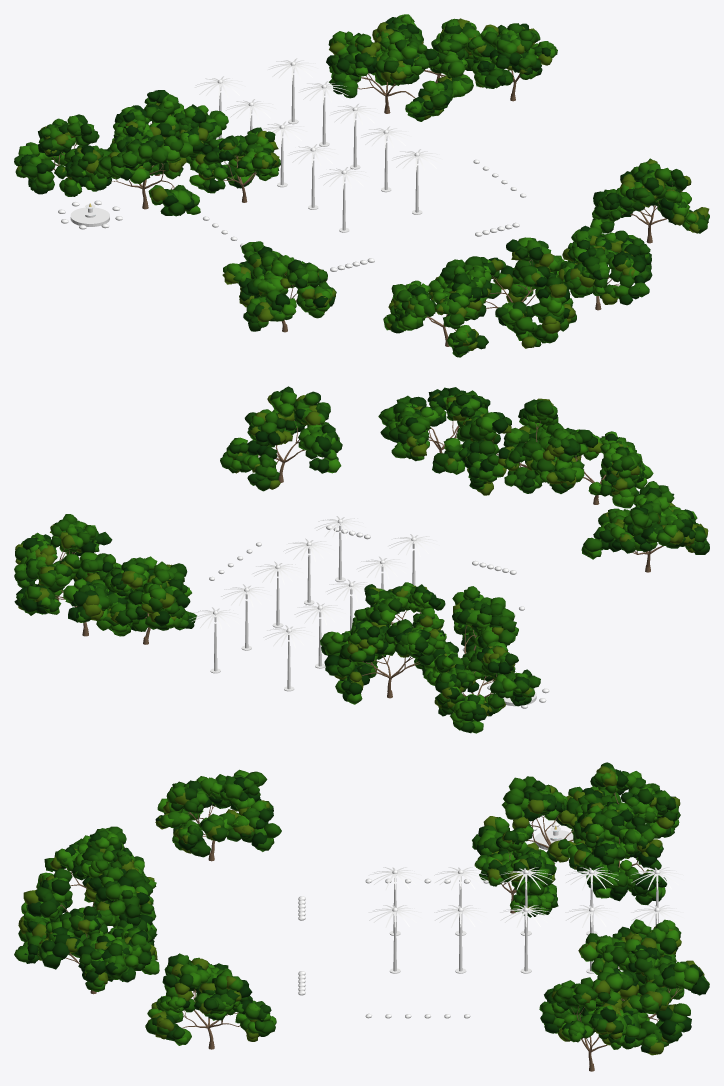
File: campus_vegetation.glb
3 views of the same model, one above another, from view 1: azimuth 30°, elevation 25°; view 2: azimuth 150°, elevation 25°; view 3: azimuth 270°, elevation 25° (orthographic). The views are drawn at different scales.
Visible parts, largest first — view 1: Oak_Tree_9_Leaves, Oak_Tree_11_Leaves, Oak_Tree_5_Leaves, Oak_Tree_10_Leaves, Oak_Tree_8_Leaves, Oak_Tree_2_Leaves, Oak_Tree_12_Leaves, Oak_Tree_1_Leaves, Oak_Tree_3_Leaves, Oak_Tree_7_Leaves, Oak_Tree_4_Leaves, Oak_Tree_6_Leaves; view 2: Oak_Tree_12_Leaves, Oak_Tree_9_Leaves, Oak_Tree_2_Leaves, Oak_Tree_3_Leaves, Oak_Tree_8_Leaves, Oak_Tree_11_Leaves, Oak_Tree_10_Leaves, Oak_Tree_6_Leaves, Oak_Tree_5_Leaves, Oak_Tree_7_Leaves, Oak_Tree_1_Leaves, Oak_Tree_4_Leaves; view 3: Oak_Tree_11_Leaves, Oak_Tree_3_Leaves, Oak_Tree_10_Leaves, Oak_Tree_12_Leaves, Oak_Tree_6_Leaves, Oak_Tree_9_Leaves, Oak_Tree_7_Leaves, Oak_Tree_2_Leaves, Oak_Tree_1_Leaves, Oak_Tree_4_Leaves, Oak_Tree_8_Leaves, Oak_Tree_5_Leaves.
Boxes of the visible parts, left/top/right/bottom form: Oak_Tree_9_Leaves: left=464, top=237, right=576, bottom=348; Oak_Tree_11_Leaves: left=222, top=241, right=336, bottom=331; Oak_Tree_5_Leaves: left=326, top=28, right=451, bottom=121; Oak_Tree_10_Leaves: left=553, top=225, right=652, bottom=305; Oak_Tree_8_Leaves: left=383, top=259, right=492, bottom=357; Oak_Tree_2_Leaves: left=14, top=114, right=120, bottom=196; Oak_Tree_12_Leaves: left=590, top=158, right=709, bottom=233; Oak_Tree_1_Leaves: left=89, top=134, right=200, bottom=216; Oak_Tree_3_Leaves: left=107, top=90, right=228, bottom=165; Oak_Tree_7_Leaves: left=467, top=23, right=557, bottom=88; Oak_Tree_4_Leaves: left=189, top=127, right=280, bottom=193; Oak_Tree_6_Leaves: left=371, top=14, right=480, bottom=100; Oak_Tree_12_Leaves: left=220, top=386, right=342, bottom=491; Oak_Tree_9_Leaves: left=458, top=398, right=584, bottom=495; Oak_Tree_2_Leaves: left=427, top=645, right=540, bottom=733; Oak_Tree_3_Leaves: left=320, top=619, right=456, bottom=704; Oak_Tree_8_Leaves: left=525, top=428, right=653, bottom=508; Oak_Tree_11_Leaves: left=581, top=481, right=709, bottom=559; Oak_Tree_10_Leaves: left=378, top=387, right=490, bottom=474; Oak_Tree_6_Leaves: left=14, top=552, right=141, bottom=636; Oak_Tree_5_Leaves: left=103, top=556, right=196, bottom=631; Oak_Tree_7_Leaves: left=14, top=514, right=112, bottom=587; Oak_Tree_1_Leaves: left=414, top=586, right=518, bottom=669; Oak_Tree_4_Leaves: left=352, top=582, right=446, bottom=659; Oak_Tree_11_Leaves: left=155, top=769, right=281, bottom=857; Oak_Tree_3_Leaves: left=568, top=801, right=666, bottom=904; Oak_Tree_10_Leaves: left=14, top=906, right=159, bottom=991; Oak_Tree_12_Leaves: left=145, top=953, right=276, bottom=1045; Oak_Tree_6_Leaves: left=582, top=960, right=709, bottom=1055; Oak_Tree_9_Leaves: left=18, top=868, right=157, bottom=945; Oak_Tree_7_Leaves: left=539, top=977, right=646, bottom=1049; Oak_Tree_2_Leaves: left=566, top=762, right=680, bottom=838; Oak_Tree_1_Leaves: left=472, top=776, right=586, bottom=862; Oak_Tree_4_Leaves: left=474, top=827, right=558, bottom=917; Oak_Tree_8_Leaves: left=36, top=826, right=156, bottom=907; Oak_Tree_5_Leaves: left=578, top=919, right=681, bottom=1014.
Size of the model in its own units: 97.34 by 14.93 by 106.
